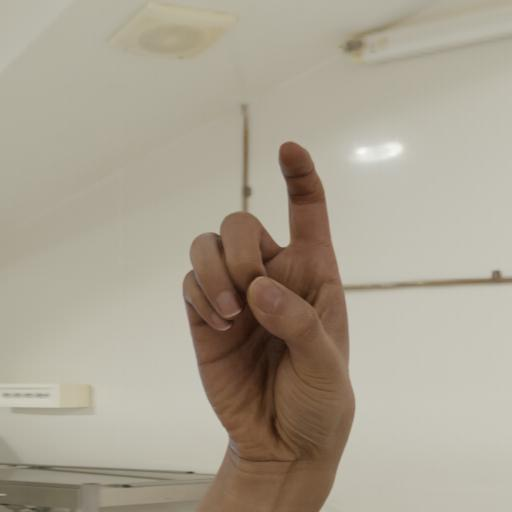X: (168, 134, 373, 474)
